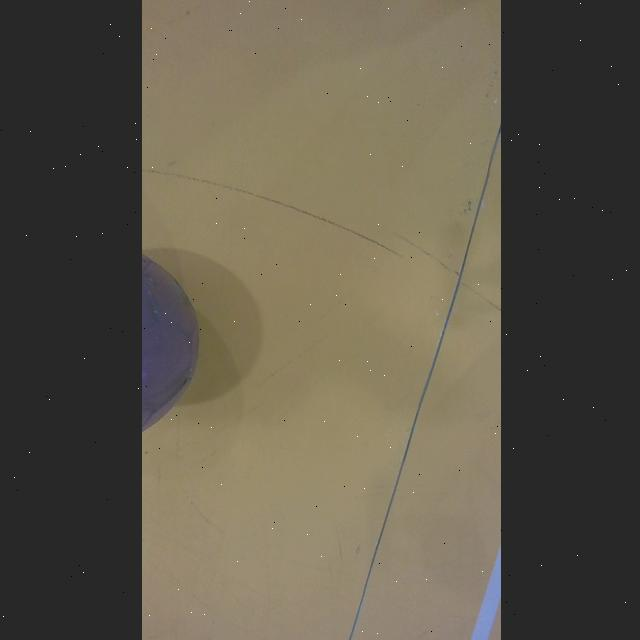P: (140, 254, 197, 432)
